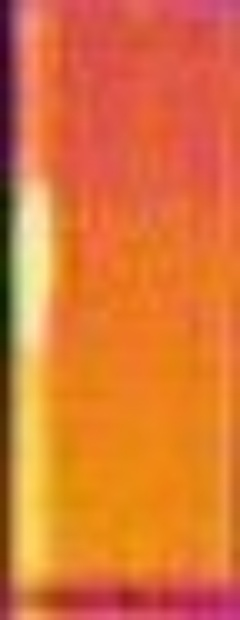Diode: (11, 166, 60, 596)
